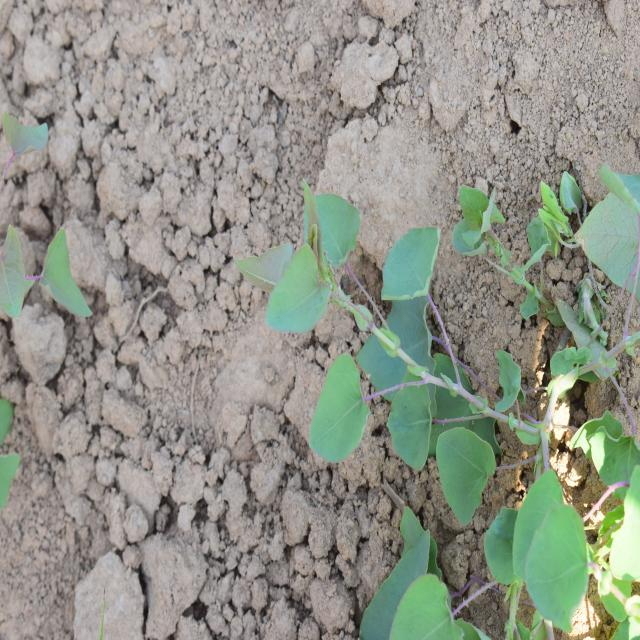Asiatic_Smartweed: (260, 186, 461, 472), (432, 426, 607, 630), (0, 214, 99, 332)
